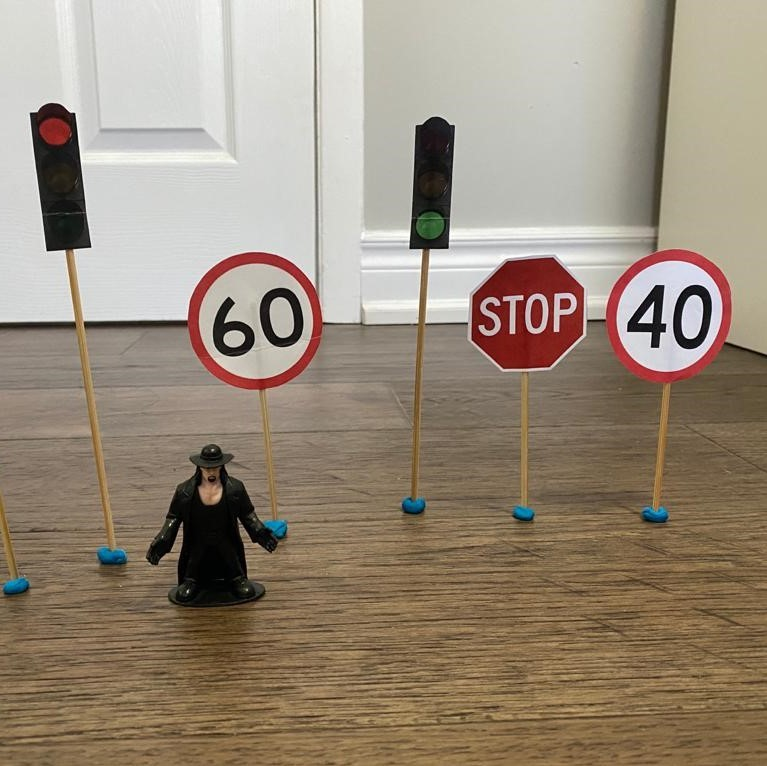Green Traffic Light: (399, 114, 464, 256)
Person: (145, 441, 282, 614)
Red Traffic Light: (20, 102, 96, 256)
Speed Limit 40: (603, 244, 735, 385)
Speed Limit 60: (184, 249, 328, 400)
Stop Sign: (461, 254, 592, 383)
